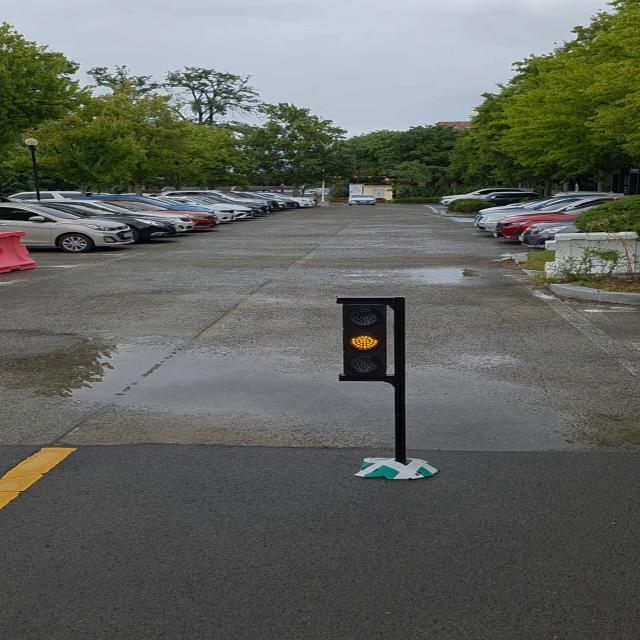yellow: (340, 302, 390, 384)
